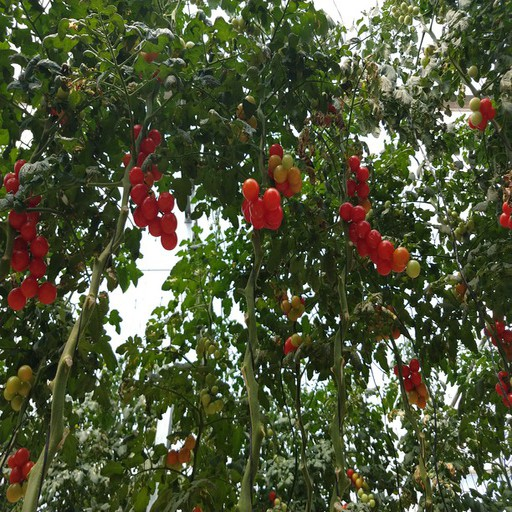green tomato bunch: (123, 123, 179, 251), (3, 365, 34, 411), (234, 95, 257, 141), (200, 371, 224, 415), (192, 337, 220, 361), (355, 489, 375, 507)
mixed tomato bunch: (268, 143, 304, 197), (393, 358, 429, 408), (6, 446, 36, 504), (166, 432, 197, 465), (468, 95, 496, 130), (283, 333, 311, 357), (278, 294, 303, 318), (347, 468, 363, 489)
red tomato bunch: (4, 160, 58, 312), (340, 201, 419, 280), (242, 178, 282, 230), (345, 155, 372, 211), (484, 319, 512, 361), (496, 370, 512, 408), (499, 203, 512, 228)
